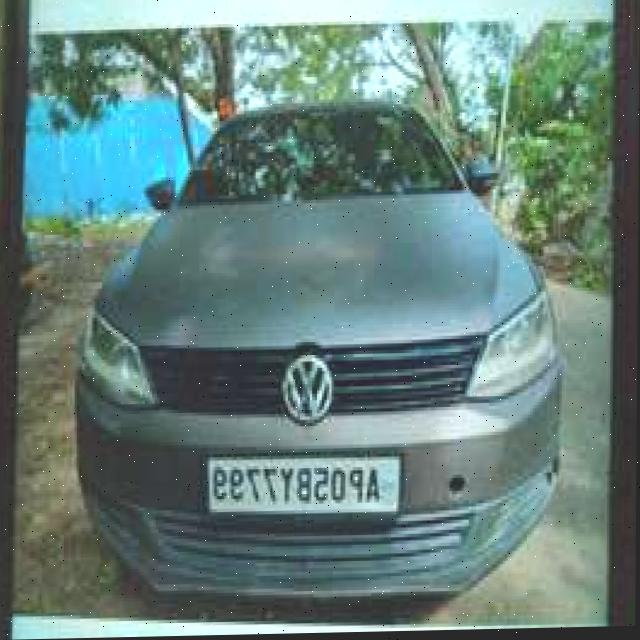plate: (206, 450, 404, 520)
